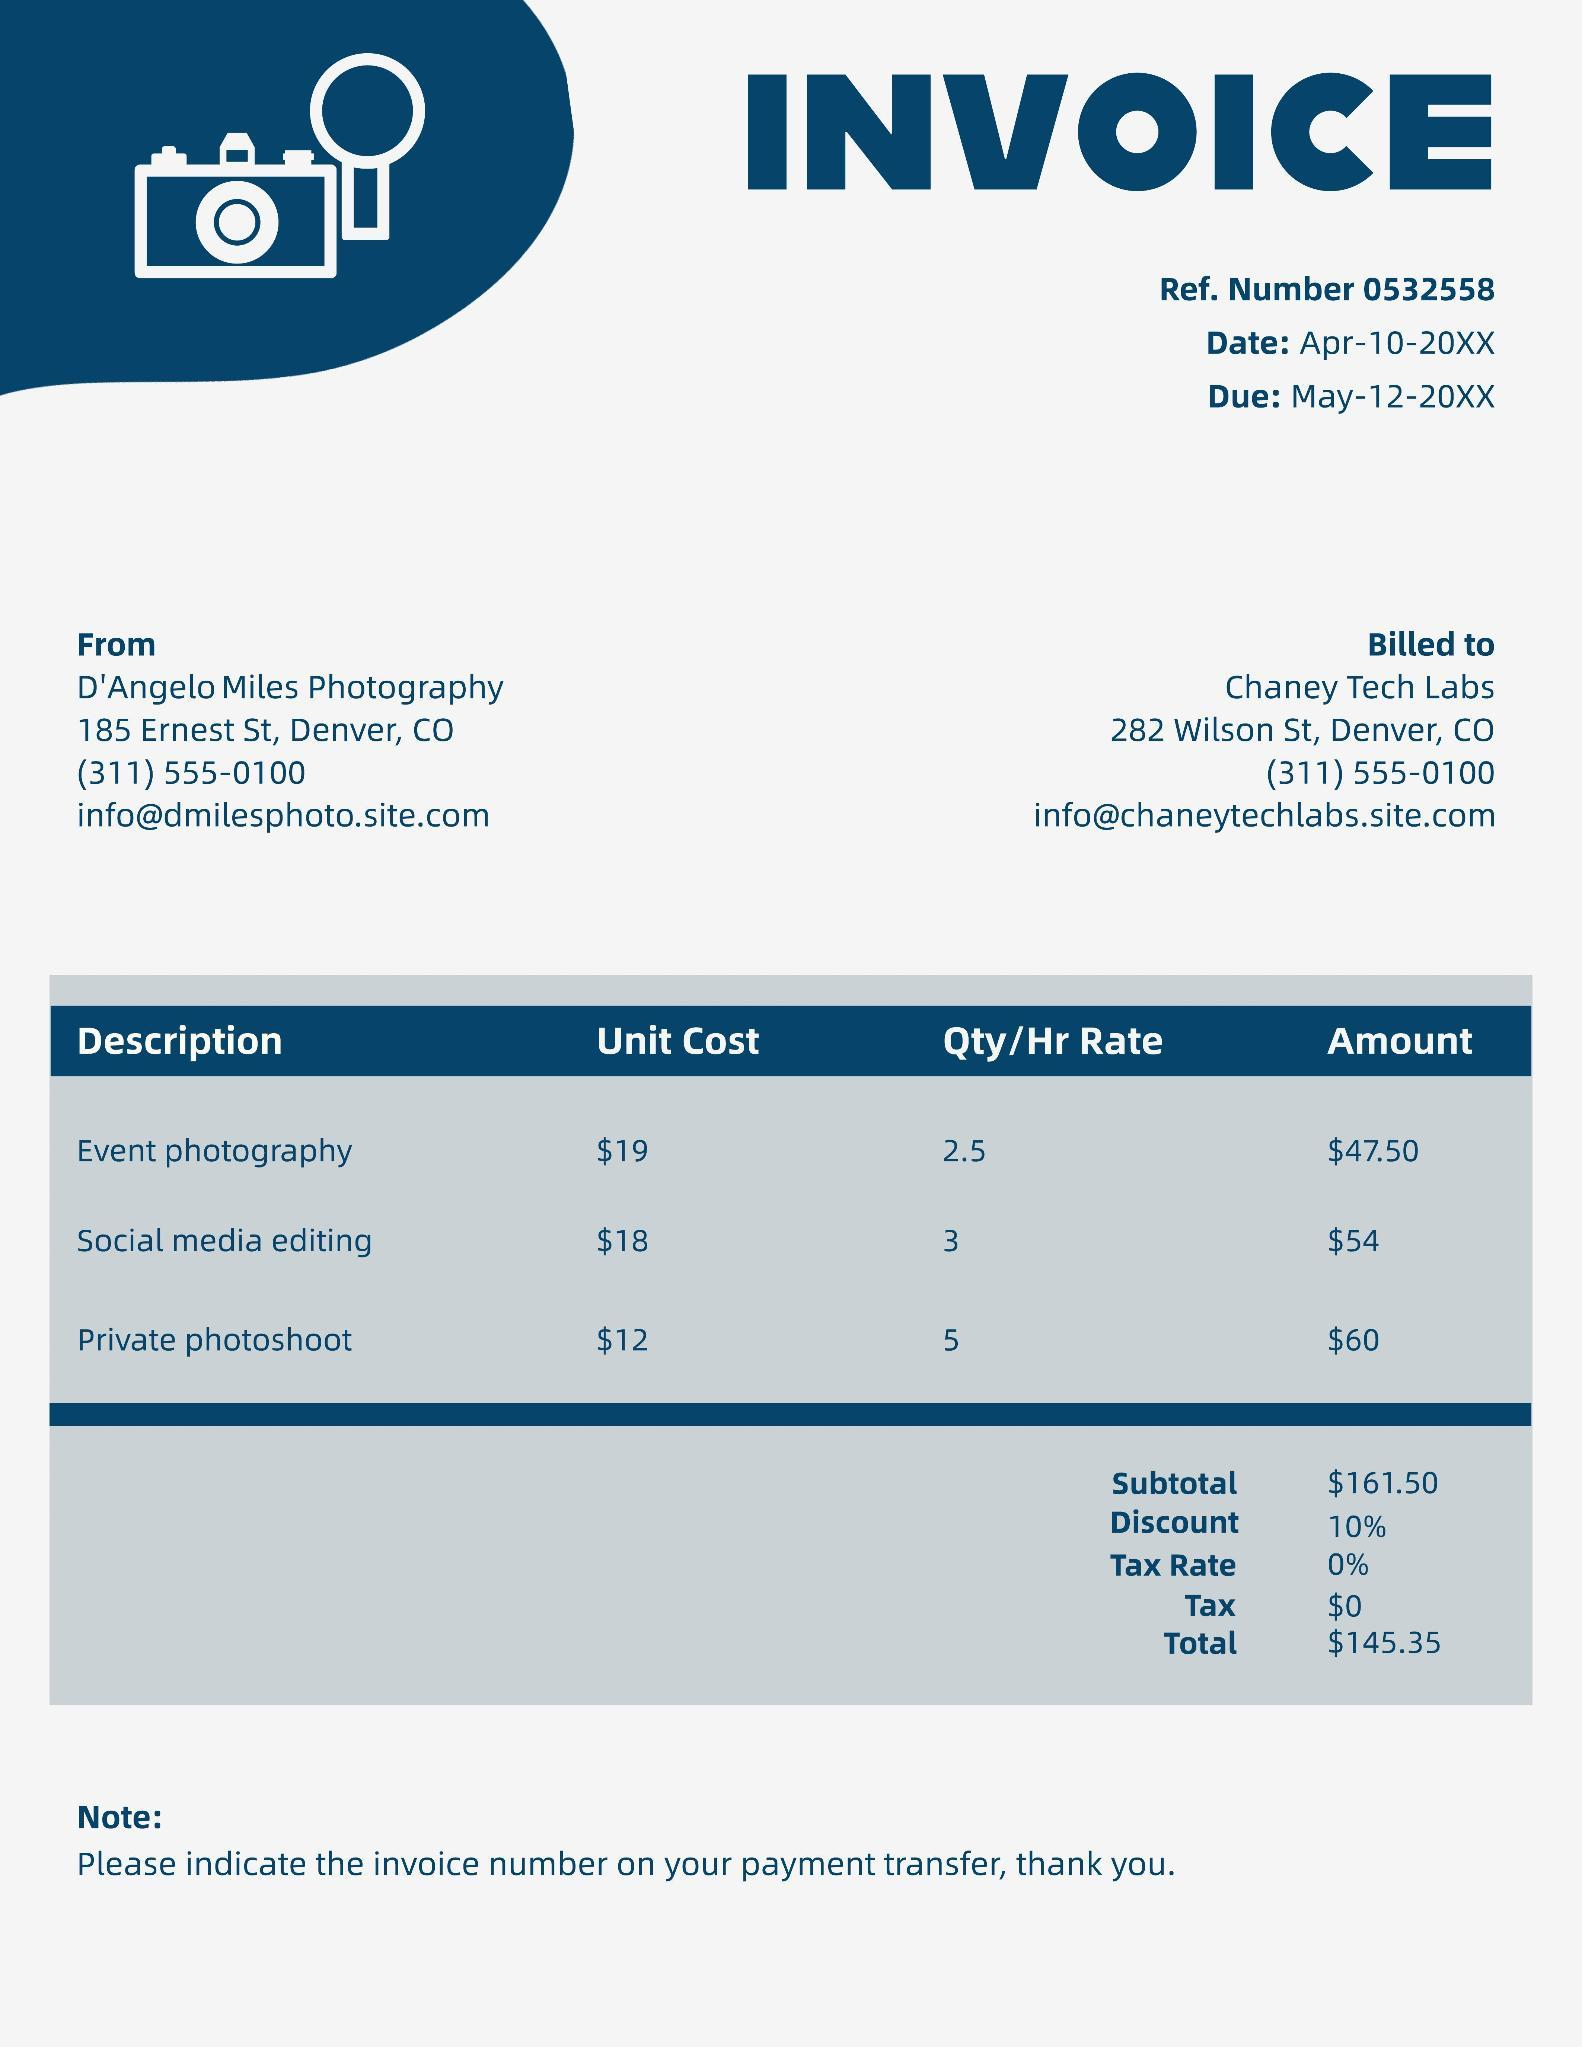ROI: (50, 1007, 1532, 1397), (1029, 596, 1517, 837), (730, 61, 1514, 209), (65, 1801, 1186, 1891), (75, 621, 533, 832), (1092, 1451, 1496, 1686), (1152, 261, 1516, 424)
